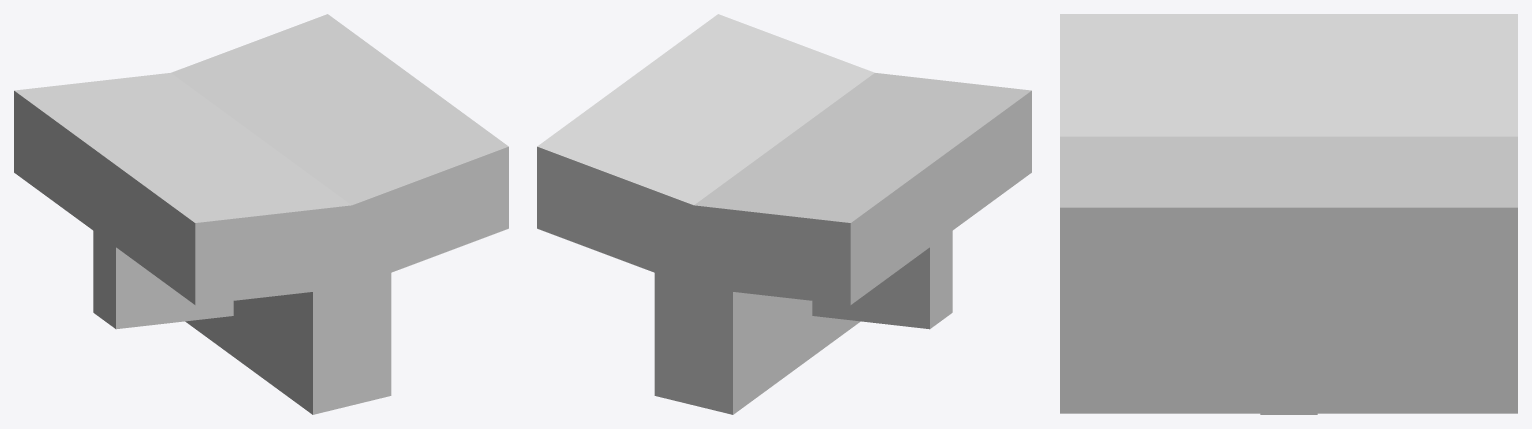
The model's file is dc_metro_roof_j4b.obj.
The picture shows the model from 3 angles, left to right: view 1: azimuth 30°, elevation 25°; view 2: azimuth 150°, elevation 25°; view 3: azimuth 270°, elevation 25°; orthographic projection. The views are drawn at different scales.
Visible parts, largest first — view 1: part4b; view 2: part4b; view 3: part4b.
Boxes of the visible parts, <box> form: part4b: <box>14,14,508,414</box>; part4b: <box>537,14,1031,414</box>; part4b: <box>1060,14,1517,414</box>.
Size of the model in its own units: 1 by 0.6719 by 1.
Materials: 1 (1 with a texture image).
